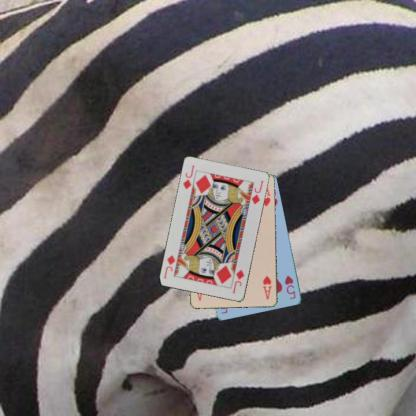5h: (282, 273, 297, 300)
Ah: (260, 274, 273, 300)
Jd: (230, 267, 246, 295), (180, 163, 196, 191)
